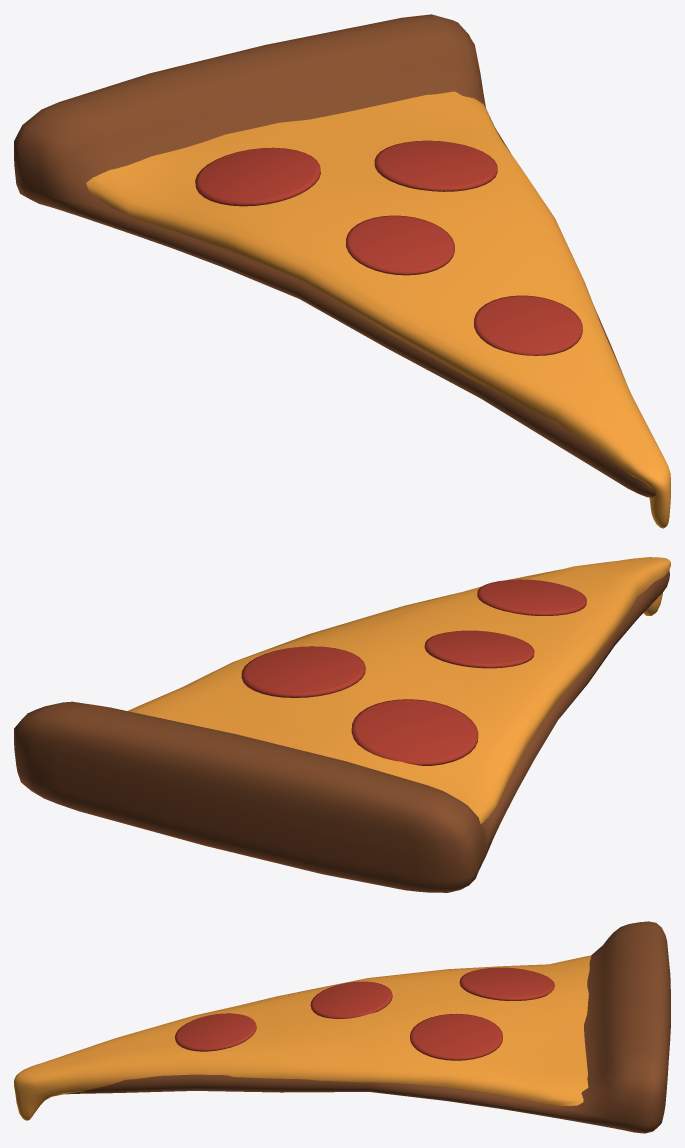
The model's file is PIZZA.fbx.
3 renders of one model, top to bottom at view 1: azimuth 30°, elevation 25°; view 2: azimuth 150°, elevation 25°; view 3: azimuth 270°, elevation 25°, orthographic. The views are drawn at different scales.
Visible parts, largest first — view 1: Circle.001; view 2: Circle.001; view 3: Circle.001.
Part boxes in pixels (<box>): Circle.001: <box>14,14,670,528</box>; Circle.001: <box>14,557,670,892</box>; Circle.001: <box>14,921,670,1133</box>.
Bounding box in the file's own units: 99.01 × 36.31 × 165.
